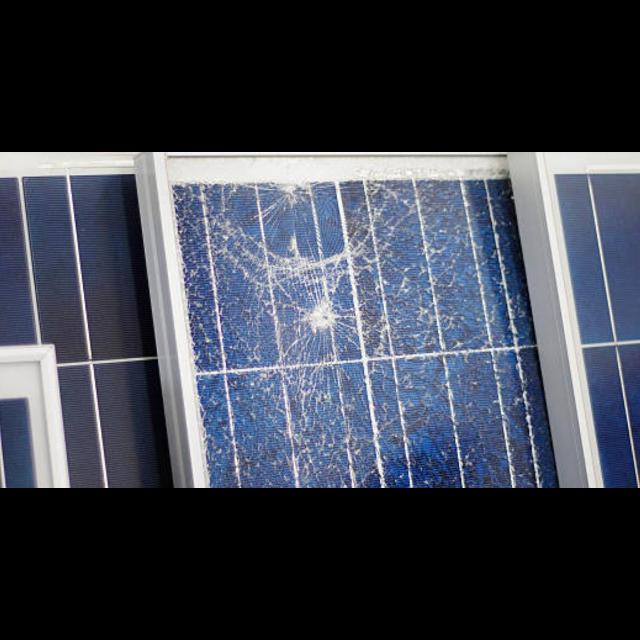Photovoltaic-Panel: (175, 179, 561, 488)
